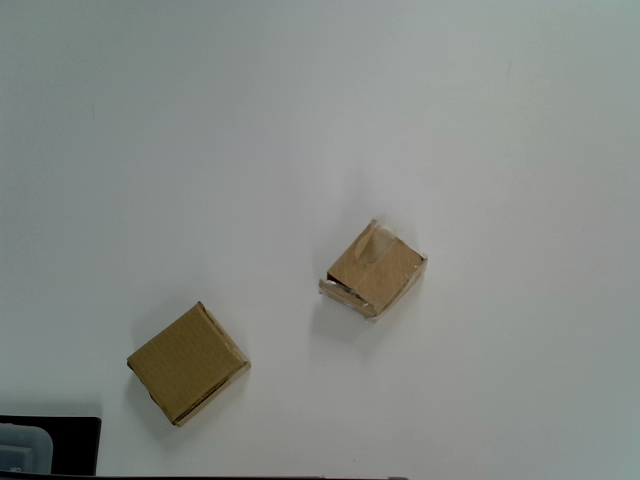defect: (320, 216, 434, 323)
normal: (127, 300, 251, 428)
